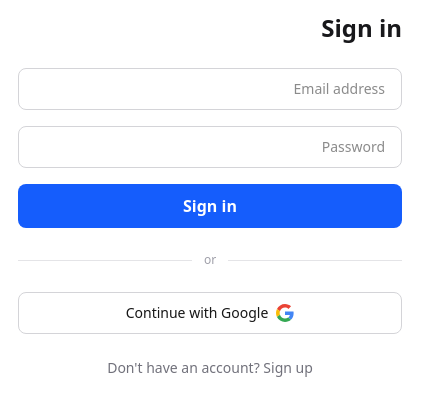
AuthForm › disables submit button while request is pending
The width and height of the screenshot is (421, 394).
Type "user@example.com" into the field labelled "Email address" at (210, 89), box [18,68,402,110]
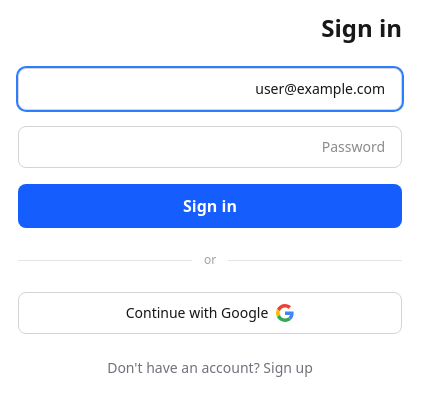
Type "password123" into the password field labelled "Password" at (210, 147), box [18,126,402,168]
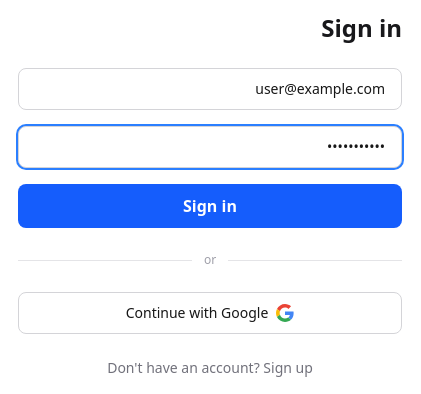
Submit the form, box [18,68,402,228]
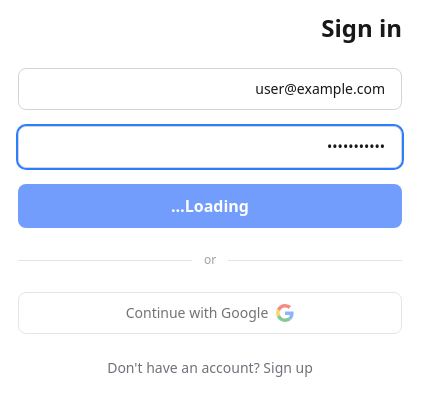
Now the button "Loading…" is disabled, box [18,184,402,228]
